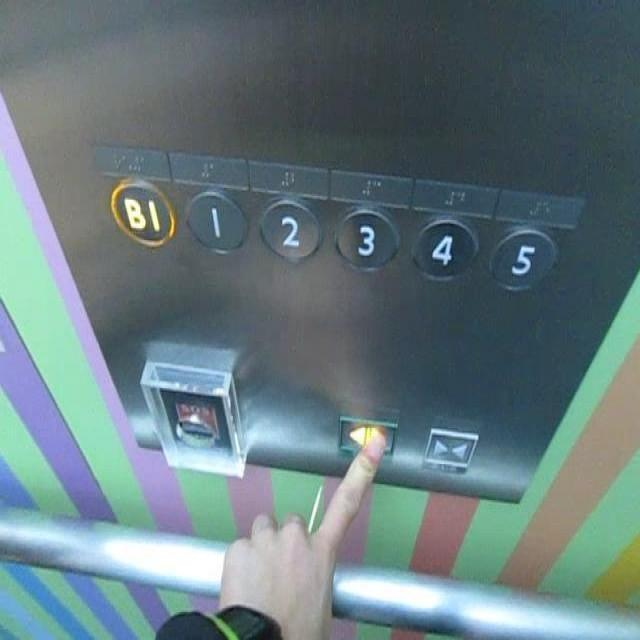1: (180, 180, 249, 256)
2: (254, 188, 323, 264)
3: (330, 196, 399, 272)
4: (406, 206, 475, 282)
5: (484, 220, 560, 295)
B1: (106, 172, 175, 248)
close: (415, 421, 479, 475)
open: (332, 409, 397, 459)
